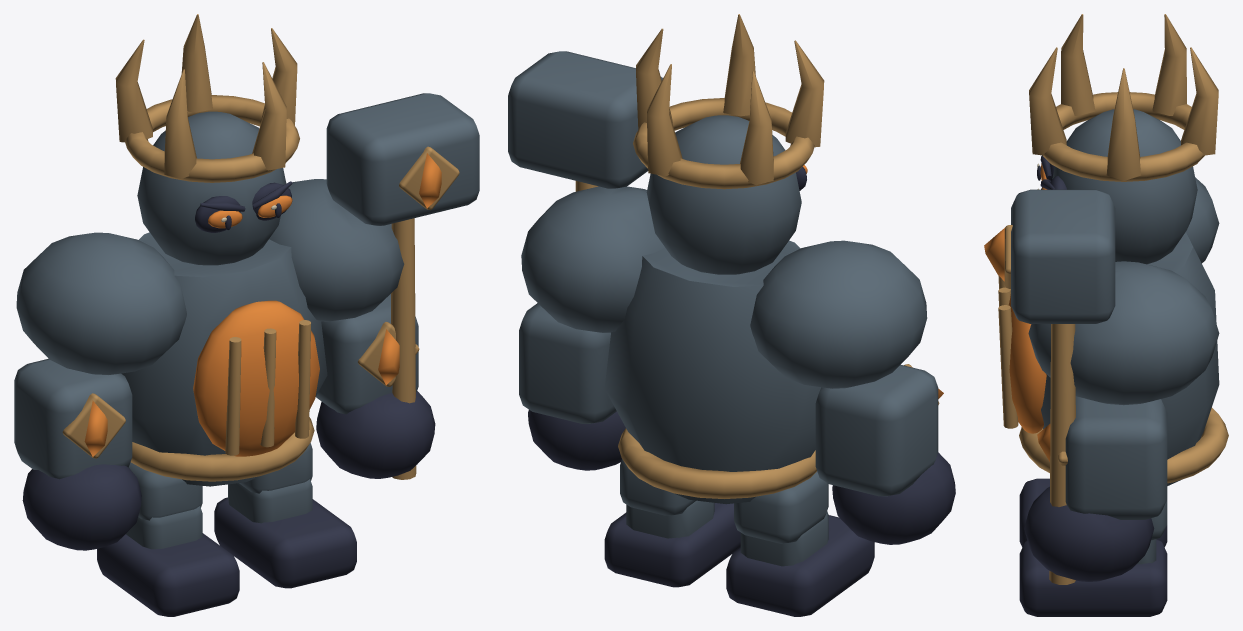
File: boss_1.glb
The picture shows the model from 3 angles, left to right: view 1: azimuth 30°, elevation 25°; view 2: azimuth 150°, elevation 25°; view 3: azimuth 270°, elevation 25°; orthographic projection. The views are drawn at different scales.
Visible parts, largest first — view 1: Email_Art_bras_d_0, Email_Art_bras_g_0, Email_BestiaireSculpte, Email_Art_tete_0, Email_Art_tibia_d_0, Email_Art_tibia_g_0, Email_Art_patte_g_0, Email_Art_patte_d_0; view 2: Email_Art_bras_d_0, Email_Art_bras_g_0, Email_BestiaireSculpte, Email_Art_tete_0, Email_Art_tibia_g_0, Email_Art_tibia_d_0, Email_Art_patte_g_0, Email_Art_patte_d_0; view 3: Email_Art_bras_d_0, Email_Art_tete_0, Email_BestiaireSculpte, Email_Art_tibia_d_0, Email_Art_bras_g_0, Email_Art_tibia_g_0, Email_Art_patte_d_0.
Part boxes in pixels (box(x1,y1,x2,y2)): Email_Art_bras_d_0: box(269, 93, 479, 479); Email_Art_bras_g_0: box(14, 232, 186, 550); Email_BestiaireSculpte: box(121, 232, 327, 486); Email_Art_tete_0: box(115, 14, 299, 265); Email_Art_tibia_d_0: box(214, 479, 356, 588); Email_Art_tibia_g_0: box(97, 506, 239, 616); Email_Art_patte_g_0: box(128, 462, 202, 520); Email_Art_patte_d_0: box(239, 443, 312, 493); Email_Art_bras_d_0: box(508, 51, 664, 470); Email_Art_bras_g_0: box(750, 240, 955, 544); Email_BestiaireSculpte: box(604, 240, 821, 504); Email_Art_tete_0: box(633, 14, 824, 274); Email_Art_tibia_g_0: box(726, 511, 874, 616); Email_Art_tibia_d_0: box(604, 500, 740, 587); Email_Art_patte_g_0: box(734, 471, 828, 543); Email_Art_patte_d_0: box(620, 459, 695, 515); Email_Art_bras_d_0: box(984, 189, 1219, 584); Email_Art_tete_0: box(1029, 14, 1218, 264); Email_BestiaireSculpte: box(998, 232, 1228, 485); Email_Art_tibia_d_0: box(1019, 539, 1167, 616); Email_Art_bras_g_0: box(1041, 177, 1219, 263); Email_Art_tibia_g_0: box(1019, 478, 1167, 547); Email_Art_patte_d_0: box(1151, 500, 1167, 540).
Bounding box in the file's own units: 1.14 × 1.36 × 0.5643.
